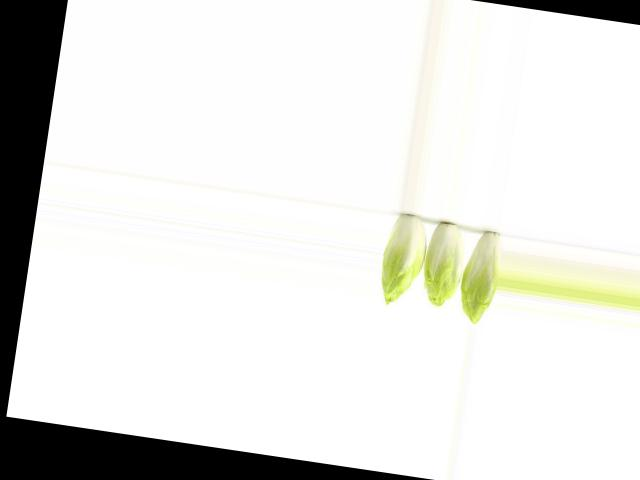lettuce: (375, 207, 429, 309)
